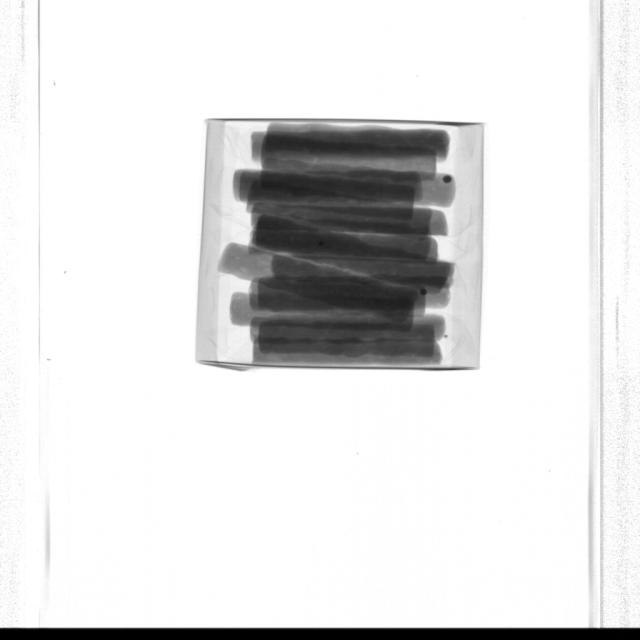ym: (444, 175, 453, 184), (421, 289, 428, 296), (319, 241, 325, 247), (444, 334, 448, 339)
